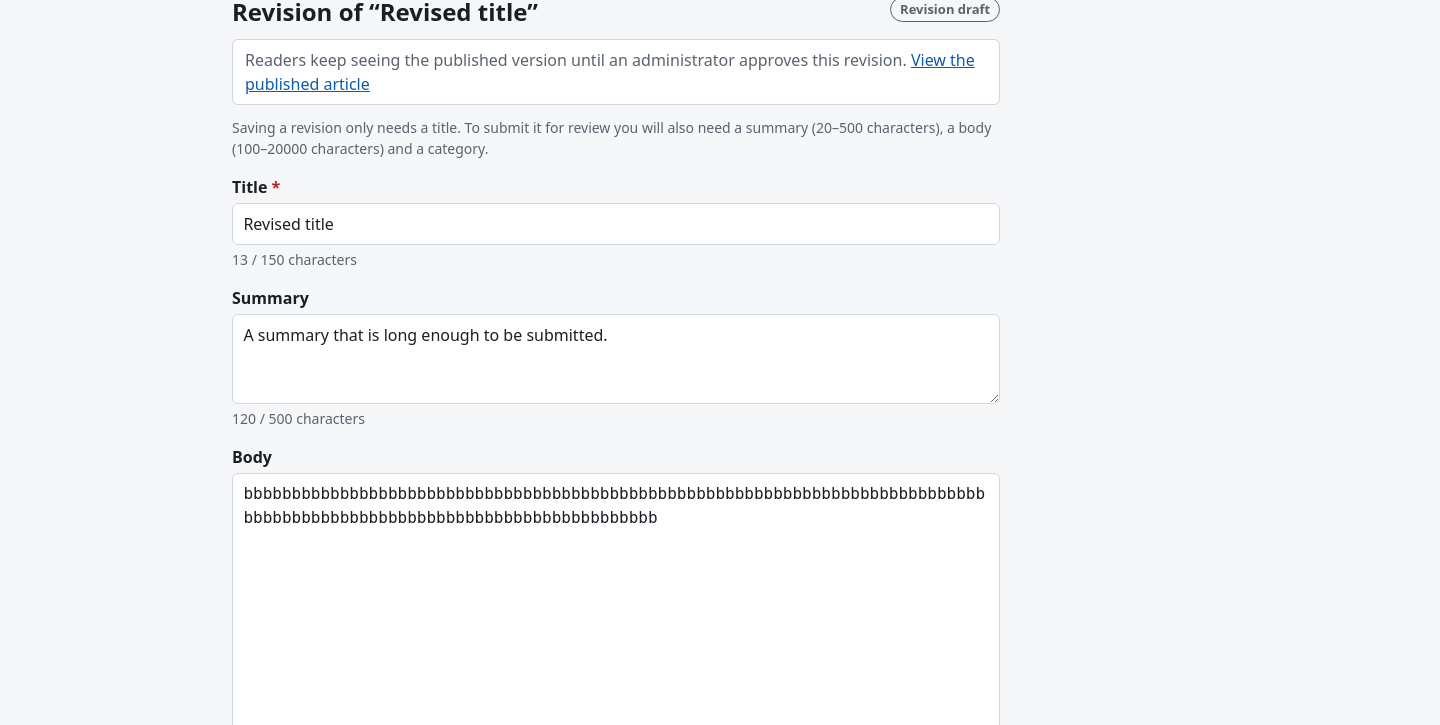
Test case: a draft revision › tells the author when the revision changed elsewhere and reloads on request
Type " more" into the field with test id "revision-title".
click(616, 224); type(" more")  # box x1=232 y1=203 x2=1000 y2=245
(page scrolled)
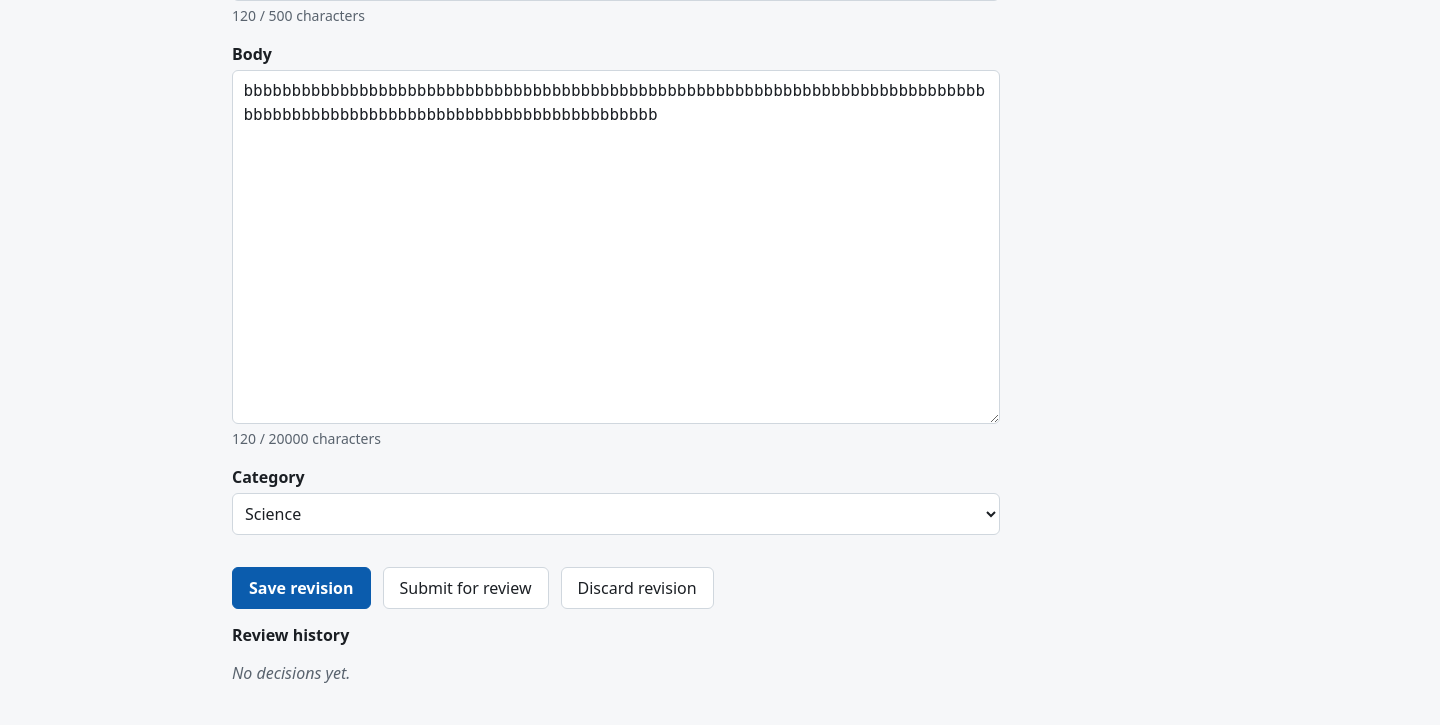
Click the button with test id "revision-save".
click(301, 588)  # box x1=232 y1=567 x2=370 y2=609
(page scrolled)
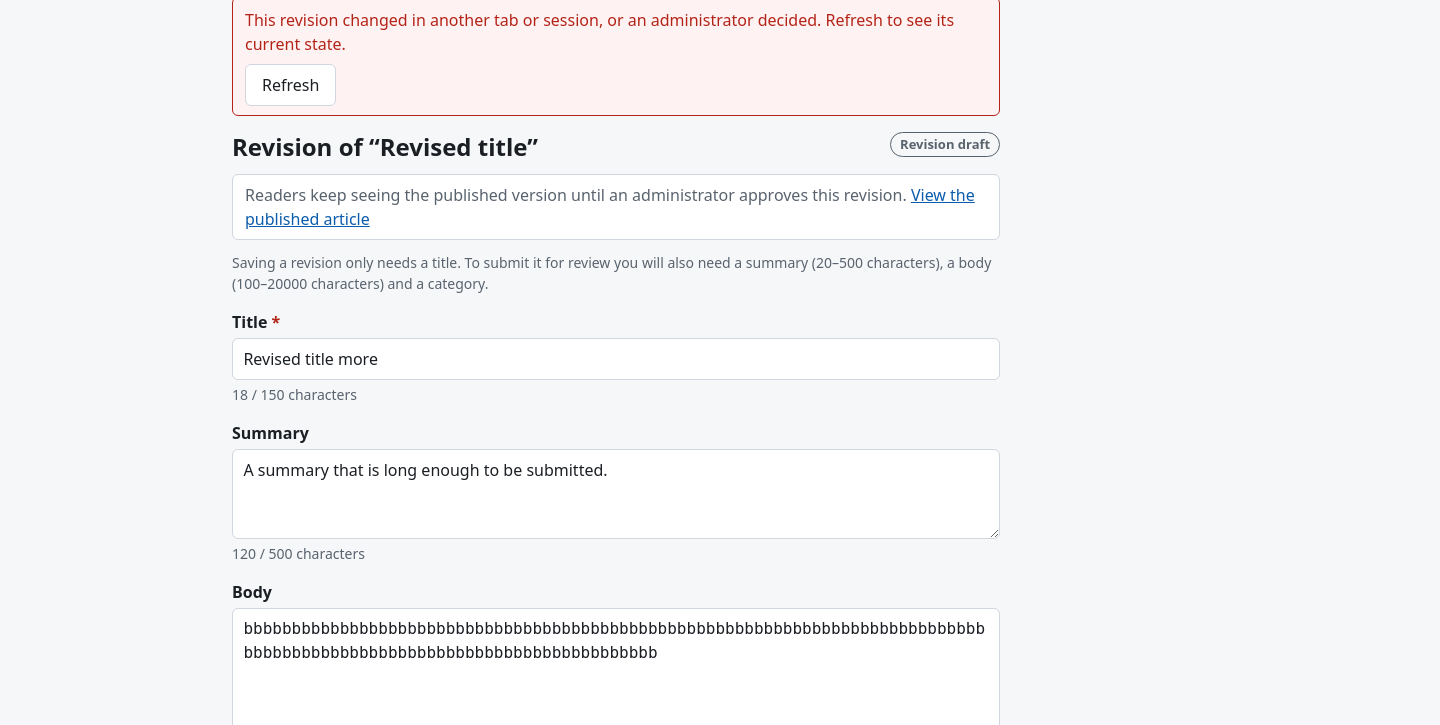
Expected: the message with test id "revision-conflict" shows "This revision changed in another tab or session, or an administrator decided. Refresh to see its current state.", x1=245 y1=9 x2=954 y2=55
Click the button with test id "revision-refresh".
click(291, 85)  # box x1=245 y1=64 x2=336 y2=106
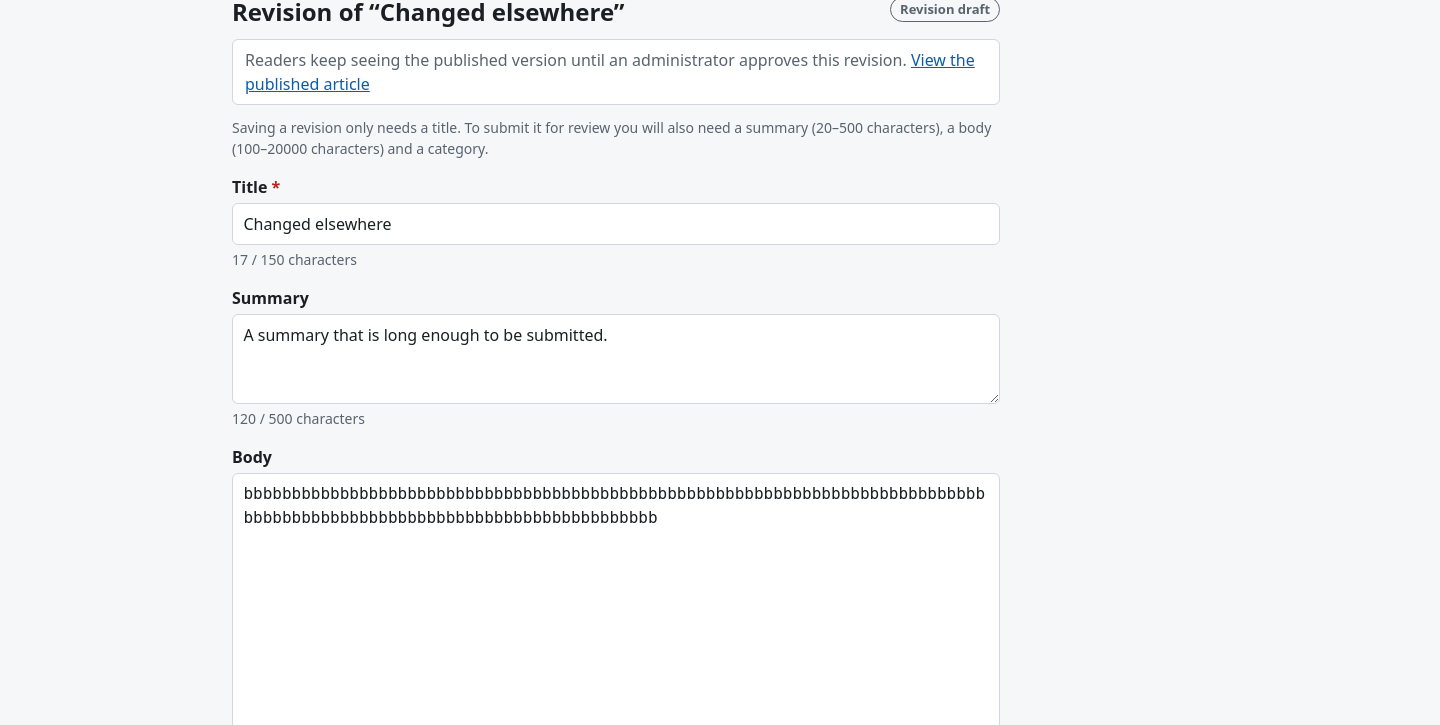
Expected: the field with test id "revision-title" holds "Changed elsewhere", x1=232 y1=203 x2=1000 y2=245
